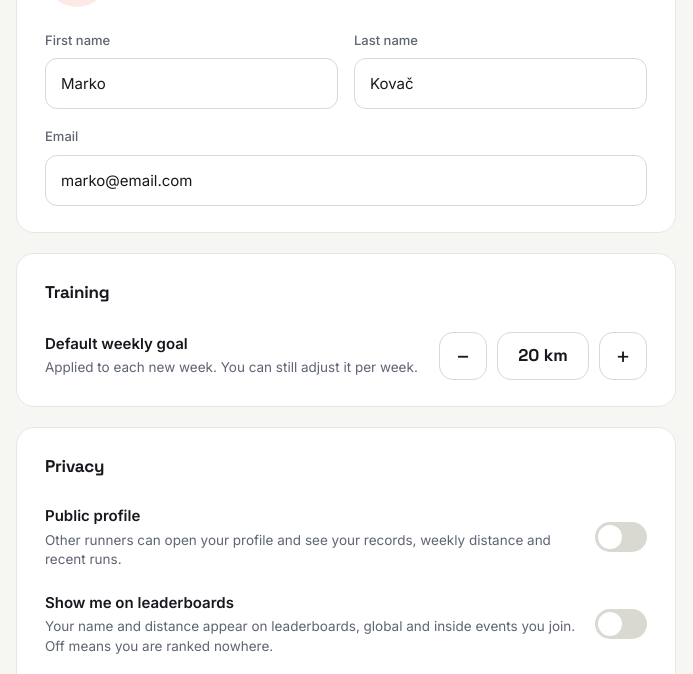
Test: Settings profile card (RUN-37) › names the PARTIAL result when only the weekly-default write fails (RUN-59)
Replace the text in the field labelled "First name" with "Ana" at (192, 84), box [45,58,338,109]
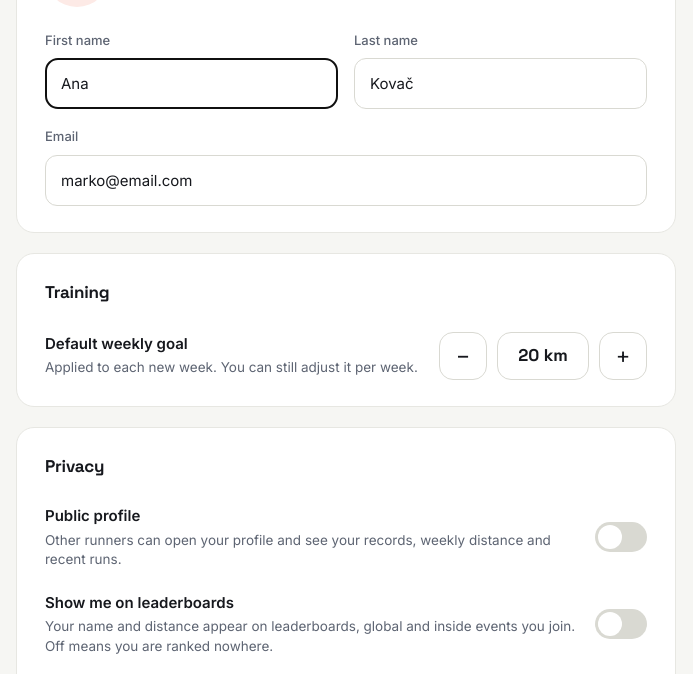
Click the button named "Increase default weekly goal".
click(623, 356)  # box [599,332,647,380]
(page scrolled)
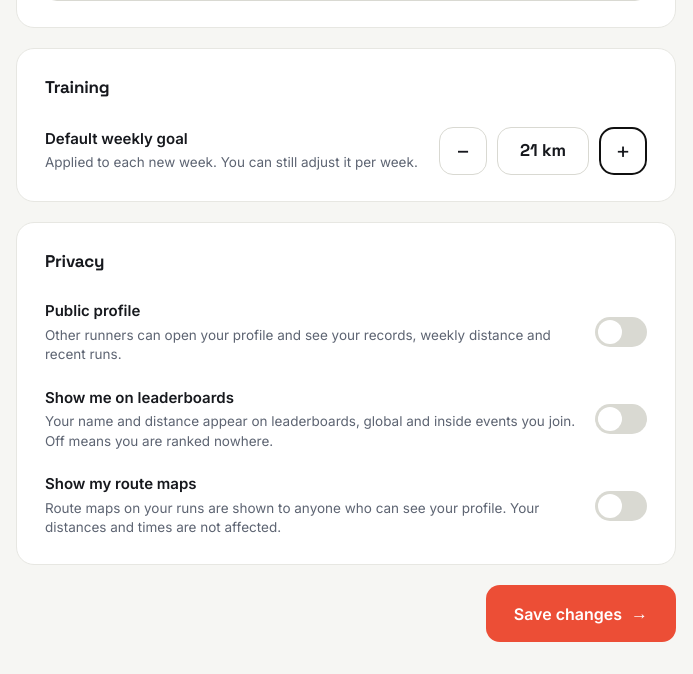
Click the button "Save changes →".
click(581, 614)  # box [486,585,676,642]
(page scrolled)
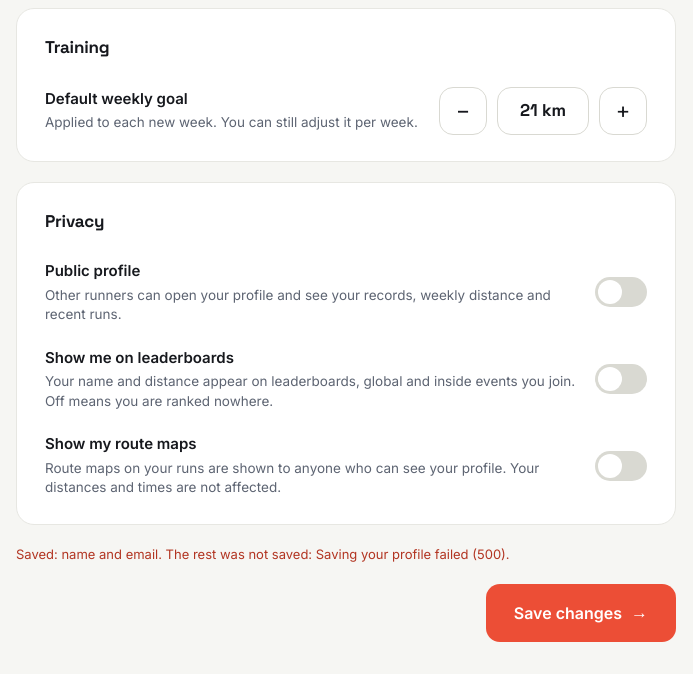
Check: the text "21 km" is shown, box [497,86,589,134]
Check: the message reads "Saved: name and email. The rest was not saved: Saving your profile failed (500).", box [16,546,510,562]
